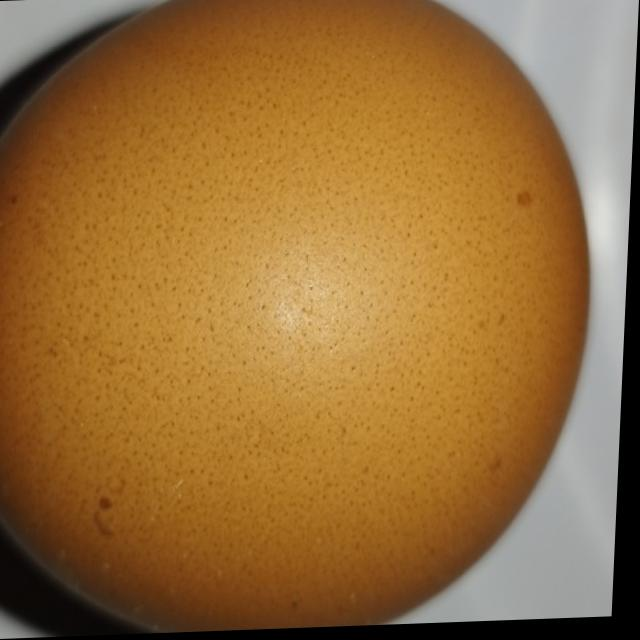unfresh: (0, 0, 606, 640)
